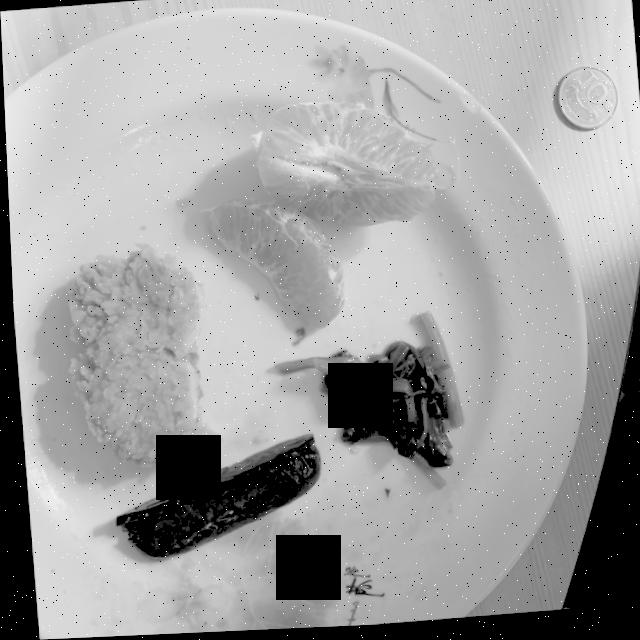coin: (557, 72, 616, 134)
firm tofu: (110, 436, 316, 560)
fried chicken cutlet: (65, 245, 217, 468)
mustard greens: (272, 315, 459, 492)
